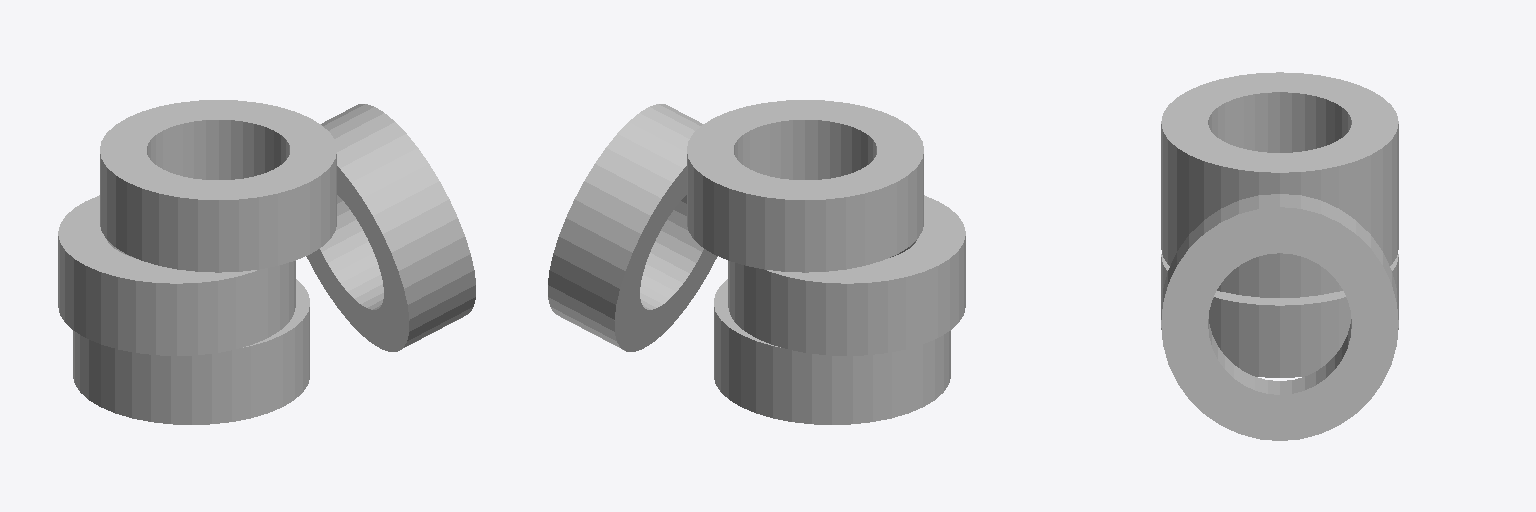
Rendered from obstacle1.obj.
3 views of the same model, side by side, from view 1: azimuth 30°, elevation 25°; view 2: azimuth 150°, elevation 25°; view 3: azimuth 270°, elevation 25° (orthographic).
Bounding box in the file's own units: 6.41 × 3.87 × 3.63.